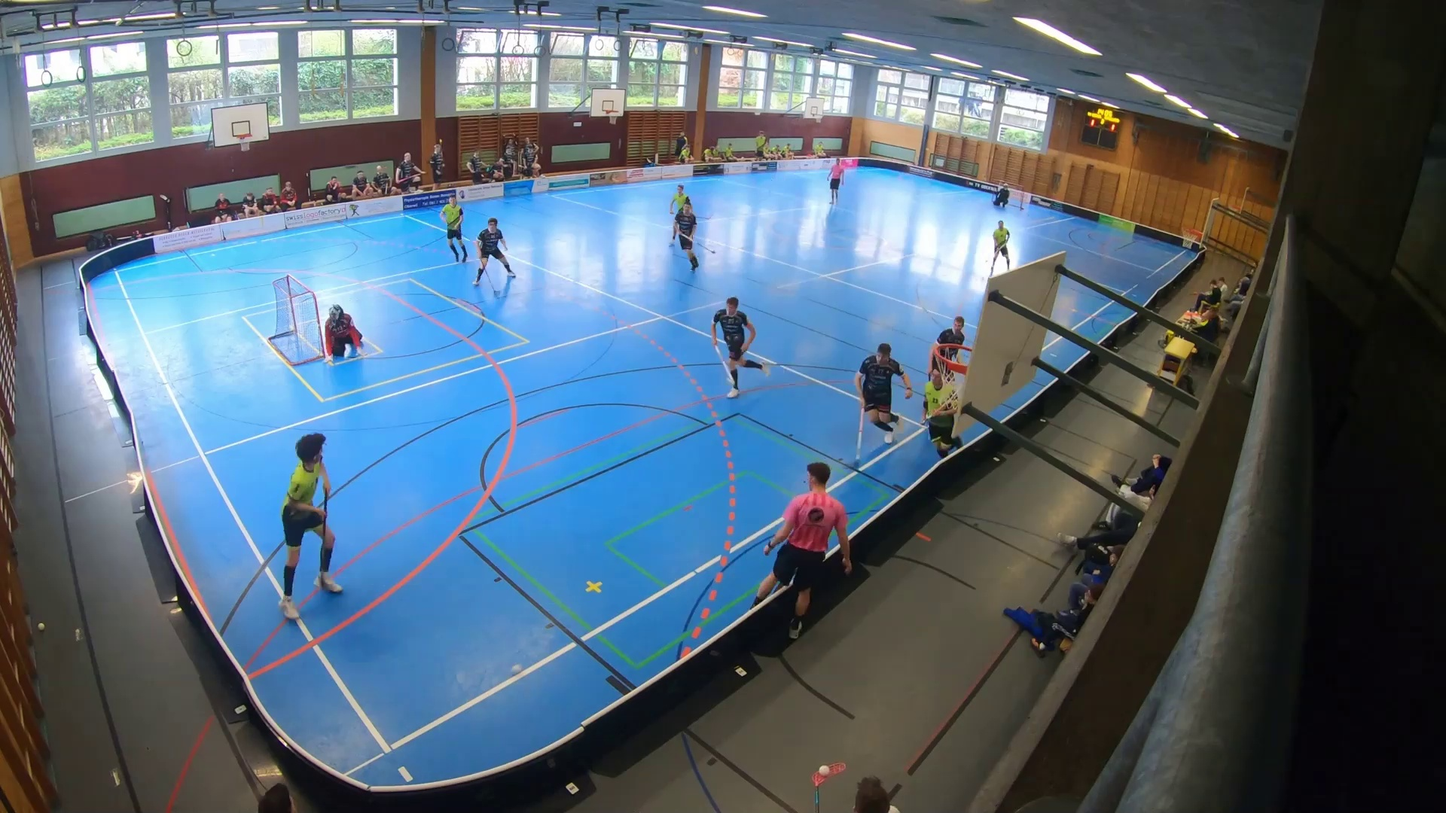Schiri: (752, 457, 858, 638), (825, 158, 846, 206)
ball: (509, 660, 523, 677)
goalkeeper: (325, 304, 362, 359), (993, 181, 1012, 208)
player: (279, 421, 345, 623), (709, 294, 774, 405), (852, 339, 917, 448), (918, 370, 968, 453), (472, 216, 518, 298), (667, 203, 720, 274), (925, 311, 968, 373), (439, 195, 469, 264), (669, 183, 713, 224), (986, 218, 1013, 275)
